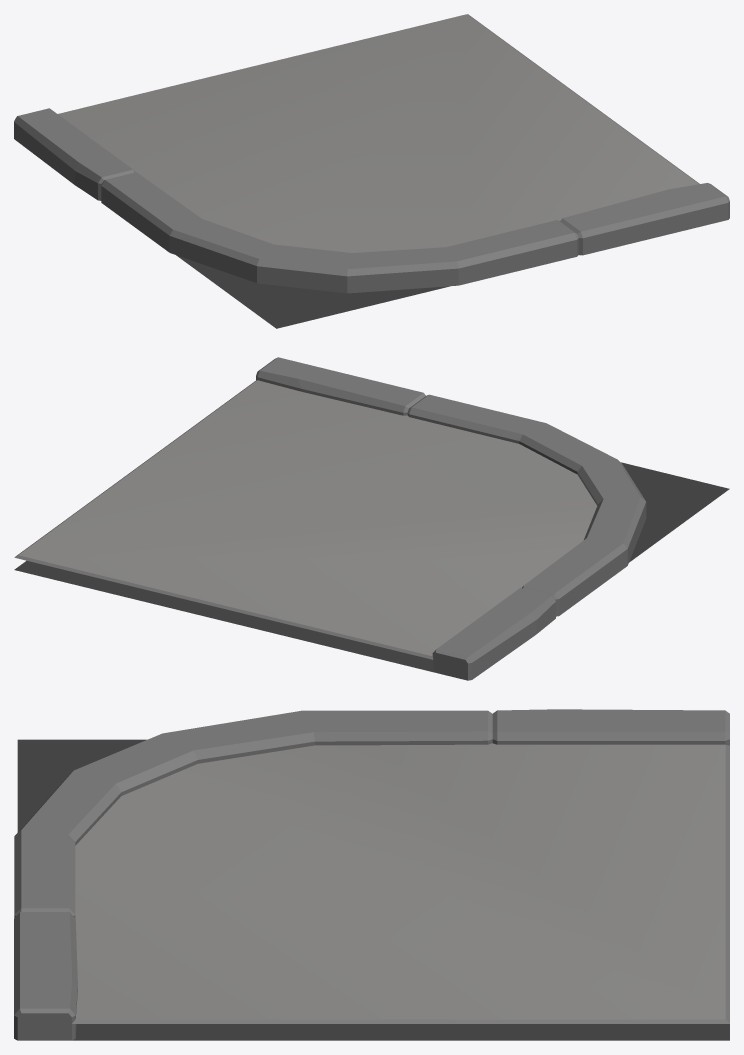
Rendered from SM_Envr_Road_Sidewalk_Corner_In_02.fbx.
3 views of the same model, one above another, from view 1: azimuth 30°, elevation 25°; view 2: azimuth 150°, elevation 25°; view 3: azimuth 270°, elevation 25° (orthographic). The views are drawn at different scales.
Visible parts, largest first — view 1: SM_Envr_Road_Sidewalk_Corner_In_02; view 2: SM_Envr_Road_Sidewalk_Corner_In_02; view 3: SM_Envr_Road_Sidewalk_Corner_In_02.
Boxes of the visible parts, bbox=[...] form: SM_Envr_Road_Sidewalk_Corner_In_02: bbox=[14, 14, 729, 328]; SM_Envr_Road_Sidewalk_Corner_In_02: bbox=[14, 357, 729, 680]; SM_Envr_Road_Sidewalk_Corner_In_02: bbox=[14, 709, 729, 1040].
Size of the model in its own units: 505 by 25.53 by 503.
